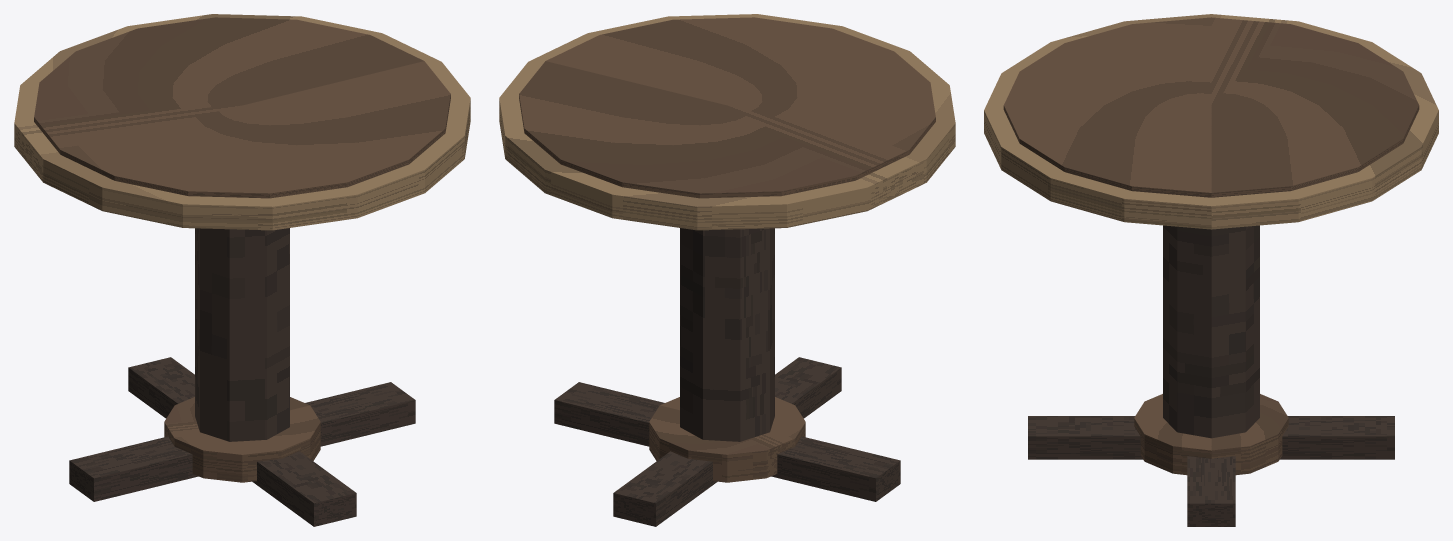
Rendered from mesa_cocina_redonda.glb.
3 renders of one model, left to right at view 1: azimuth 30°, elevation 25°; view 2: azimuth 150°, elevation 25°; view 3: azimuth 270°, elevation 25°, orthographic.
Parts seen in each view (by area): view 1: mesa_cocina_redonda; view 2: mesa_cocina_redonda; view 3: mesa_cocina_redonda.
Part boxes in pixels (bbox=[...]): mesa_cocina_redonda: bbox=[14, 14, 470, 526]; mesa_cocina_redonda: bbox=[499, 14, 955, 526]; mesa_cocina_redonda: bbox=[984, 14, 1438, 526].
Bounding box in the file's own units: 0.9144 × 0.7728 × 0.9144.
1 material, 1 textured.
